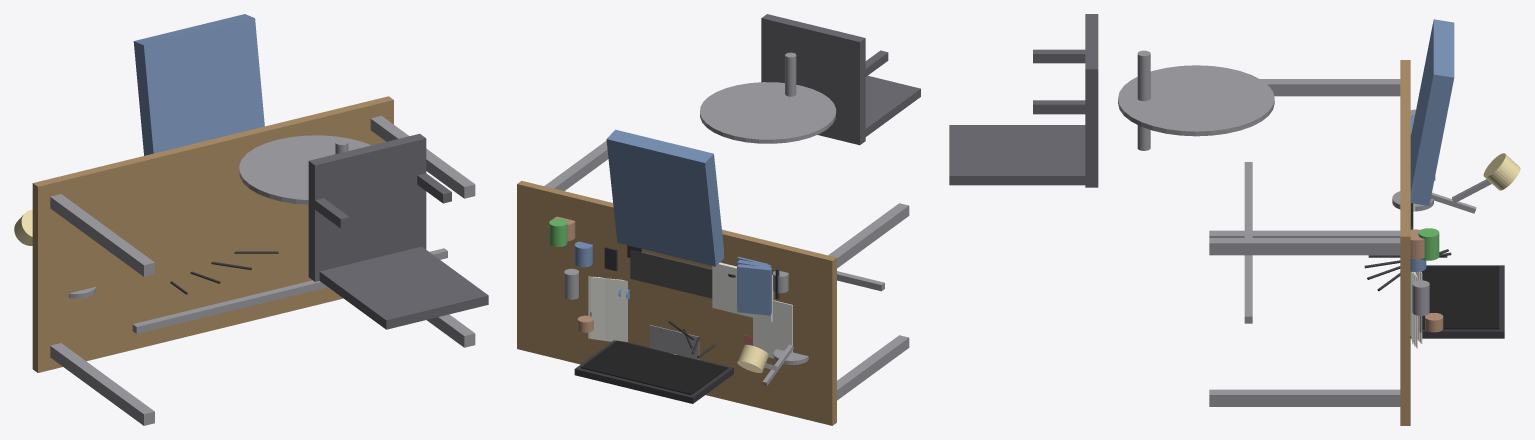
The model's file is WorkplaceKit.fbx.
3 renders of one model, left to right at view 1: azimuth 30°, elevation 25°; view 2: azimuth 150°, elevation 25°; view 3: azimuth 270°, elevation 25°, orthographic. The views are drawn at different scales.
Parts seen in each view (by area): view 1: Desk_Top, AfterHours_Jacket, Chair_Seat, Chair_Back, Chair_Base, Desk_Leg_0, Desk_Leg_2, Desk_CrossBar, Desk_Leg_3, Desk_Leg_1, Chair_Armrest_R, Chair_Armrest_L (+1 smaller); view 2: Desk_Top, AfterHours_Jacket, Chair_Seat, Chair_Base, AfterHours_ScreenOff, Keyboard, Chair_Back, Monitor_Body, Cluttered_Book_2, Clean_Notebook, Desk_Leg_2, Desk_Leg_0 (+12 smaller); view 3: Chair_Base, Chair_Back, AfterHours_Jacket, AfterHours_ScreenOff, Desk_Top, Desk_Leg_1, Desk_Leg_3, Chair_Seat, Desk_Leg_2, Desk_Leg_0, Monitor_Body, Desk_CrossBar (+6 smaller).
Boxes of the visible parts, bbox=[...] form: Desk_Top: bbox=[32, 96, 393, 372]; AfterHours_Jacket: bbox=[133, 14, 264, 155]; Chair_Seat: bbox=[308, 133, 426, 281]; Chair_Back: bbox=[319, 246, 488, 329]; Chair_Base: bbox=[239, 135, 370, 204]; Desk_Leg_0: bbox=[50, 343, 154, 425]; Desk_Leg_2: bbox=[50, 194, 154, 276]; Desk_CrossBar: bbox=[132, 248, 447, 333]; Desk_Leg_3: bbox=[370, 116, 475, 198]; Desk_Leg_1: bbox=[427, 314, 475, 347]; Chair_Armrest_R: bbox=[308, 196, 349, 228]; Chair_Armrest_L: bbox=[417, 173, 451, 203]; Desk_Top: bbox=[517, 180, 836, 425]; AfterHours_Jacket: bbox=[606, 129, 723, 266]; Chair_Seat: bbox=[761, 14, 865, 145]; Chair_Base: bbox=[700, 82, 836, 143]; AfterHours_ScreenOff: bbox=[581, 340, 727, 394]; Keyboard: bbox=[630, 250, 712, 298]; Chair_Back: bbox=[865, 76, 920, 136]; Monitor_Body: bbox=[574, 340, 733, 403]; Cluttered_Book_2: bbox=[737, 264, 771, 315]; Clean_Notebook: bbox=[753, 300, 792, 358]; Desk_Leg_2: bbox=[828, 203, 909, 268]; Desk_Leg_0: bbox=[837, 335, 909, 400]; Chair_Base: bbox=[1118, 65, 1274, 136]; Chair_Back: bbox=[949, 125, 1085, 185]; AfterHours_Jacket: bbox=[1410, 19, 1454, 205]; AfterHours_ScreenOff: bbox=[1421, 266, 1499, 329]; Desk_Top: bbox=[1400, 60, 1410, 425]; Desk_Leg_1: bbox=[1209, 389, 1400, 406]; Desk_Leg_3: bbox=[1209, 238, 1400, 255]; Chair_Seat: bbox=[1085, 14, 1098, 187]; Desk_Leg_2: bbox=[1260, 79, 1400, 96]; Desk_Leg_0: bbox=[1209, 230, 1400, 237]; Monitor_Body: bbox=[1410, 265, 1504, 338]; Desk_CrossBar: bbox=[1244, 162, 1252, 323].
Size of the model in its own units: 1.6 by 1.25 by 2.19.
